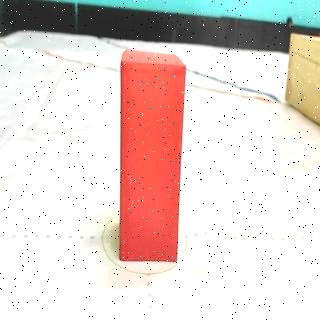redbox: (118, 48, 186, 265)
